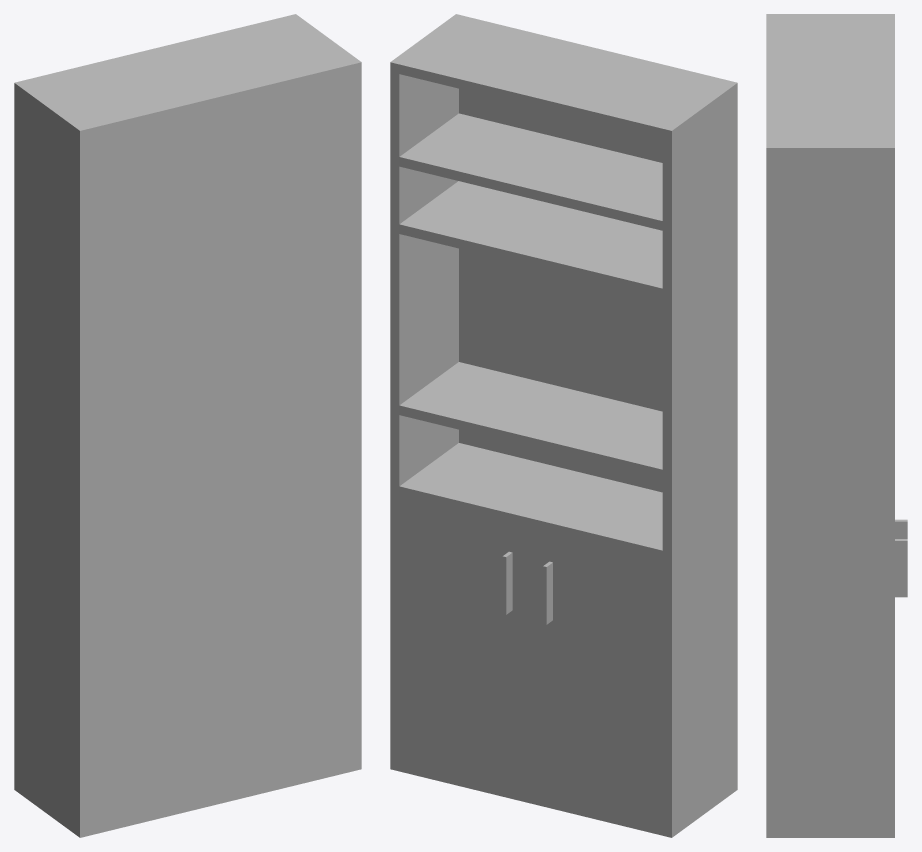
The model's file is left_shelves.dae.
The picture shows the model from 3 angles, left to right: view 1: azimuth 30°, elevation 25°; view 2: azimuth 150°, elevation 25°; view 3: azimuth 270°, elevation 25°; orthographic projection. The views are drawn at different scales.
Parts seen in each view (by area): view 1: SketchUp (×2); view 2: SketchUp (×6); view 3: SketchUp (×2).
Boxes of the visible parts, x1=… form: SketchUp (×2): x1=14, y1=14, x2=361, y2=837; SketchUp (×6): x1=390, y1=14, x2=737, y2=837; SketchUp (×2): x1=766, y1=14, x2=907, y2=837.
Bounding box in the file's own units: 30.12 × 13.39 × 72.24.
